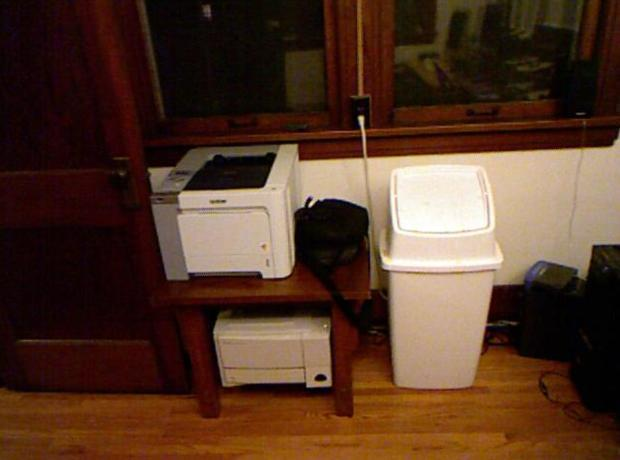Bote de Basura: (383, 161, 500, 406)
